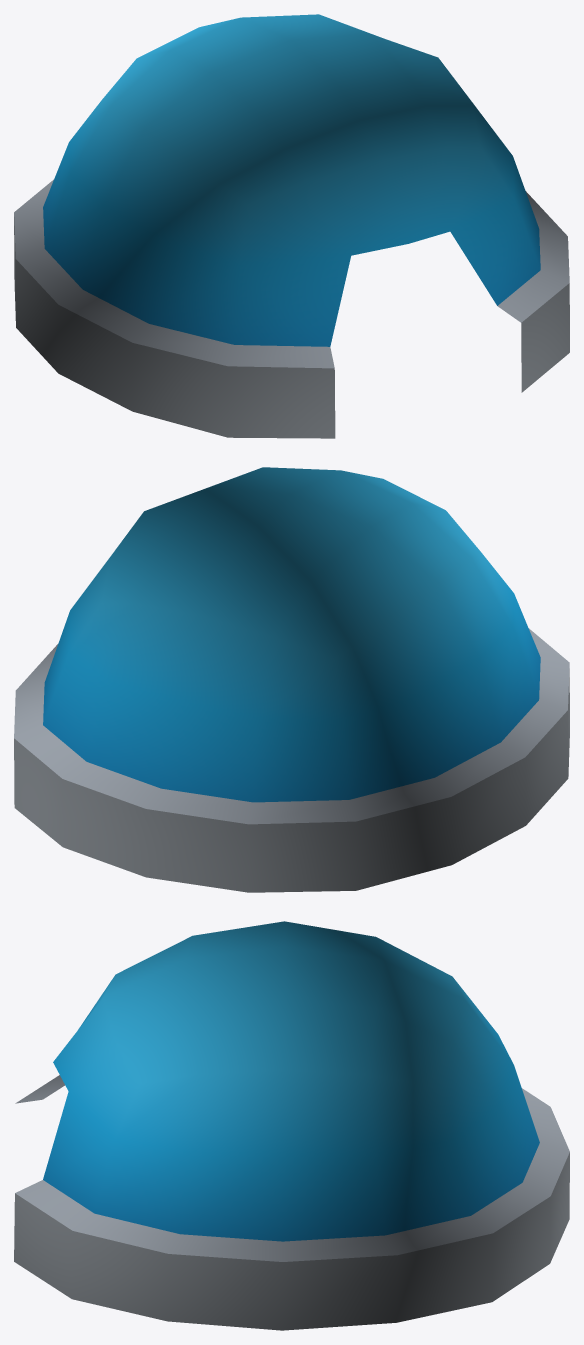
Rendered from garyCannonIglooCollider.glb.
3 renders of one model, top to bottom at view 1: azimuth 30°, elevation 25°; view 2: azimuth 150°, elevation 25°; view 3: azimuth 270°, elevation 25°, orthographic.
Visible parts, largest first — view 1: garyCannonIglooCollider; view 2: garyCannonIglooCollider; view 3: garyCannonIglooCollider.
Part boxes in pixels (x1,y1,x2,y2): garyCannonIglooCollider: [14, 14, 569, 438]; garyCannonIglooCollider: [14, 467, 569, 892]; garyCannonIglooCollider: [14, 921, 569, 1330].
Size of the model in its own units: 2.43 by 1.38 by 2.54.
